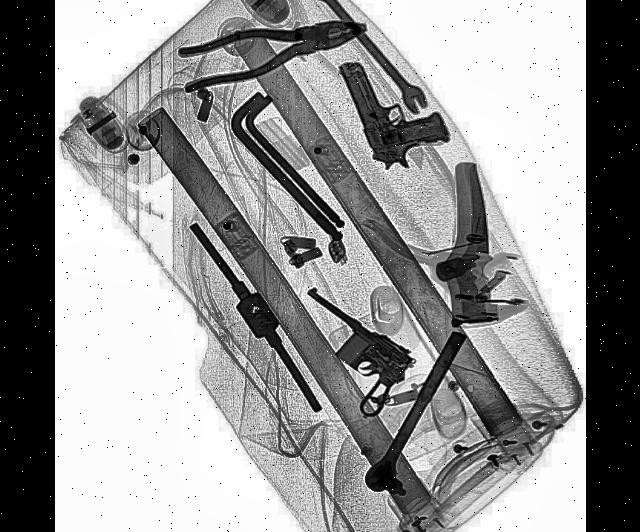Gun: (281, 278, 419, 435), (337, 23, 451, 185)
Pliers: (178, 2, 368, 96)
Wrench: (303, 0, 430, 121)
